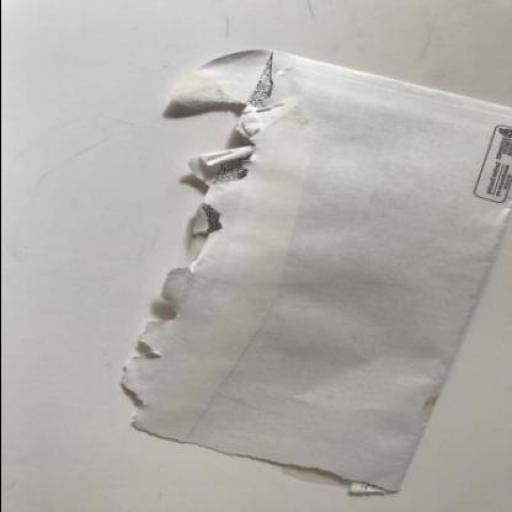paper: (119, 50, 511, 492)
